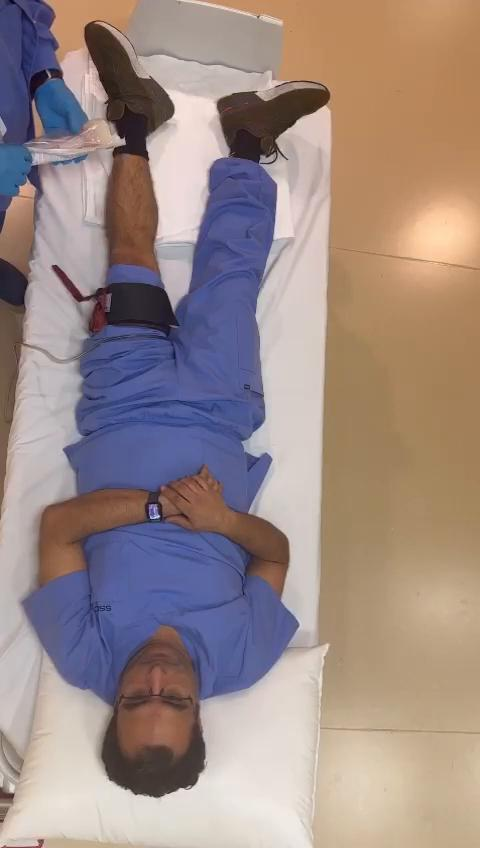patient: (24, 80, 329, 795)
tourniquet: (53, 266, 179, 333)
